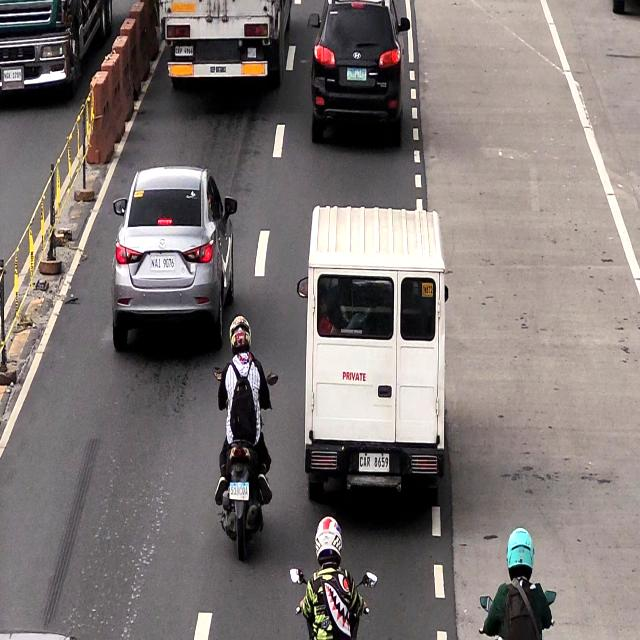Car: (306, 206, 449, 505), (113, 168, 234, 336), (310, 0, 406, 151)
License-Plate: (359, 454, 391, 476), (149, 254, 177, 271), (230, 482, 250, 500), (346, 67, 367, 84)
Motorcycle: (219, 317, 271, 562), (300, 524, 372, 640), (487, 524, 543, 640)
